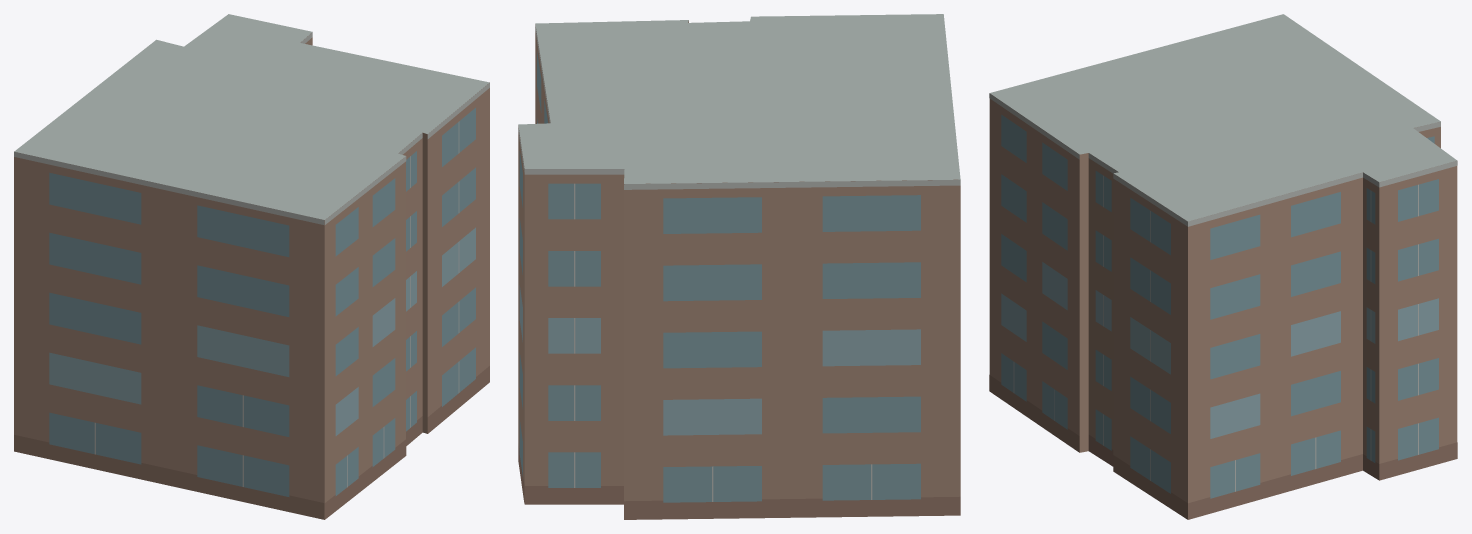
Rendered from survey-upis-33004999.glb.
3 renders of one model, left to right at view 1: azimuth 30°, elevation 25°; view 2: azimuth 150°, elevation 25°; view 3: azimuth 270°, elevation 25°, orthographic. The views are drawn at different scales.
Visible parts, largest first — view 1: survey-upis-33004999.tmp; view 2: survey-upis-33004999.tmp; view 3: survey-upis-33004999.tmp.
Part boxes in pixels (x1,y1,x2,y2): survey-upis-33004999.tmp: [14, 14, 489, 519]; survey-upis-33004999.tmp: [518, 14, 960, 519]; survey-upis-33004999.tmp: [989, 14, 1457, 519].
Size of the model in its own units: 20.91 by 14 by 19.91.
